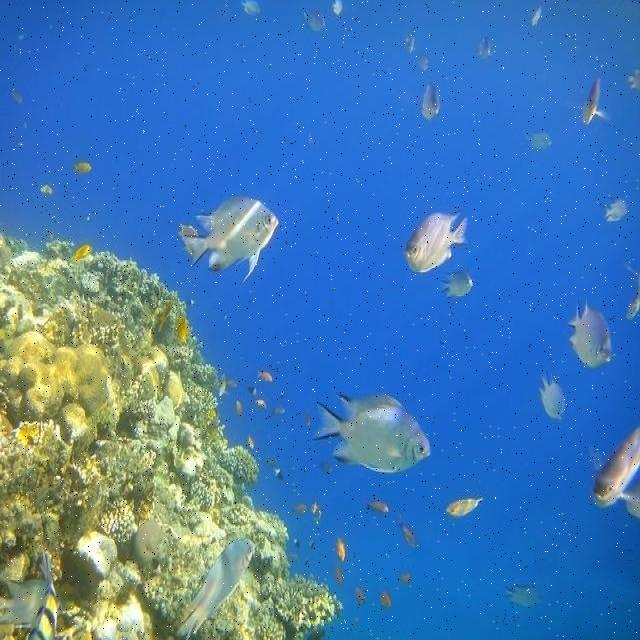fish: (312, 391, 432, 474), (178, 200, 283, 280), (175, 542, 258, 635), (594, 424, 639, 514), (403, 218, 466, 273), (569, 302, 611, 369), (33, 557, 57, 636), (572, 78, 608, 129), (540, 377, 563, 422), (443, 497, 478, 514), (423, 83, 438, 119)
reefs: (0, 234, 346, 639)
